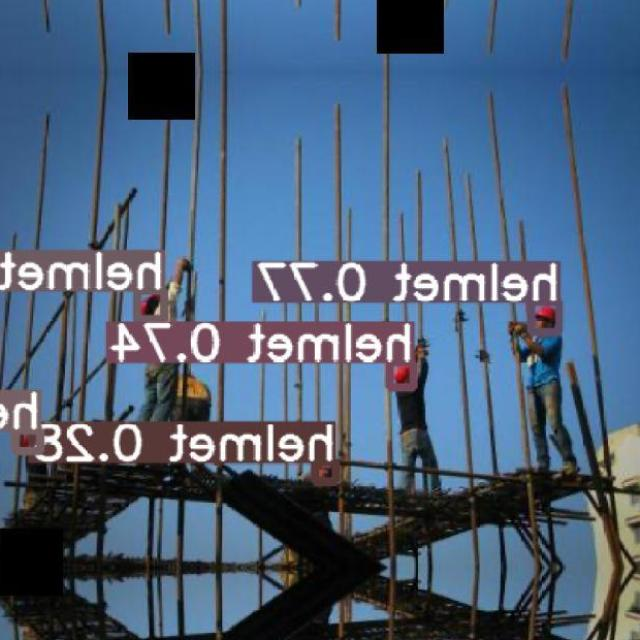helmet: (535, 306, 556, 322)
